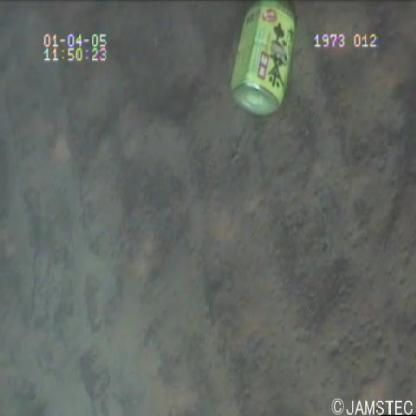Rác: (225, 1, 307, 128)
